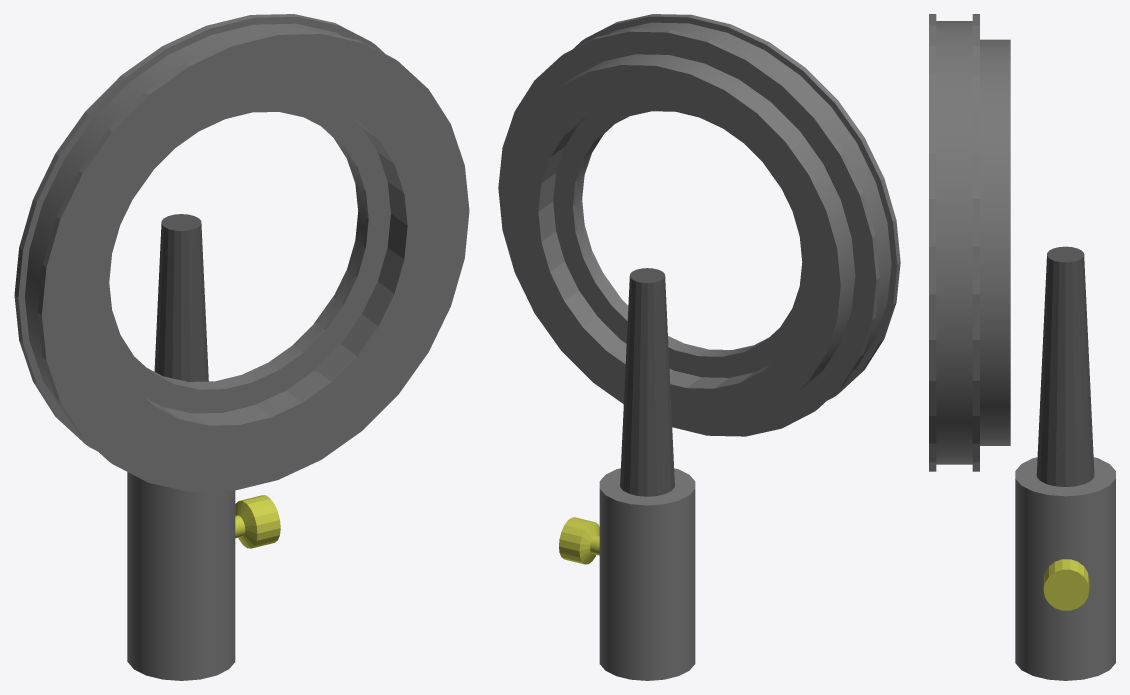
The model's file is Spin_system.glb.
3 renders of one model, left to right at view 1: azimuth 30°, elevation 25°; view 2: azimuth 150°, elevation 25°; view 3: azimuth 270°, elevation 25°, orthographic. The views are drawn at different scales.
Parts seen in each view (by area): view 1: Cylinder140, Cylinder368, Object040, Object039; view 2: Cylinder140, Cylinder368, Object040, Object039; view 3: Cylinder140, Cylinder368, Object040, Object039.
Part boxes in pixels (box(x1,y1,x2,y2)): Cylinder140: box(14, 14, 469, 491); Cylinder368: box(127, 472, 235, 680); Object040: box(154, 214, 208, 381); Object039: box(235, 495, 280, 548); Cylinder140: box(498, 14, 900, 436); Cylinder368: box(599, 468, 695, 680); Object040: box(620, 268, 674, 496); Object039: box(559, 517, 599, 564); Cylinder140: box(929, 14, 1010, 471); Cylinder368: box(1015, 457, 1115, 680); Object040: box(1036, 246, 1094, 486); Object039: box(1043, 559, 1089, 610).
Size of the model in its own units: 4.5 by 6.75 by 1.83.
